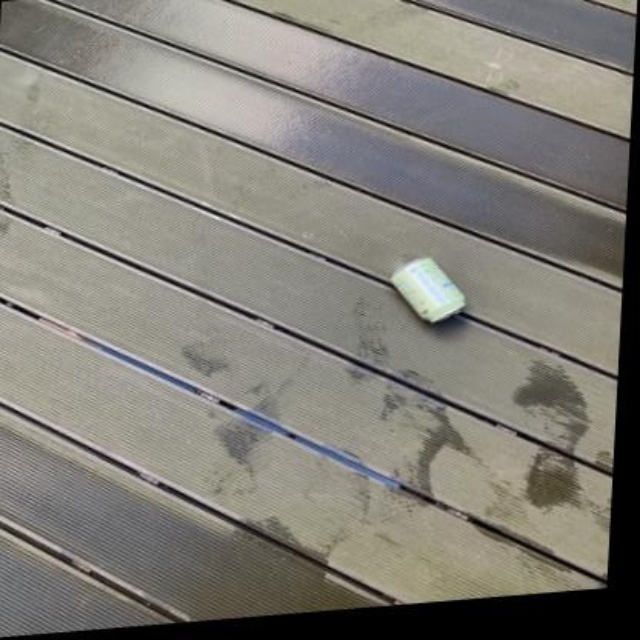trash: (391, 257, 465, 322)
